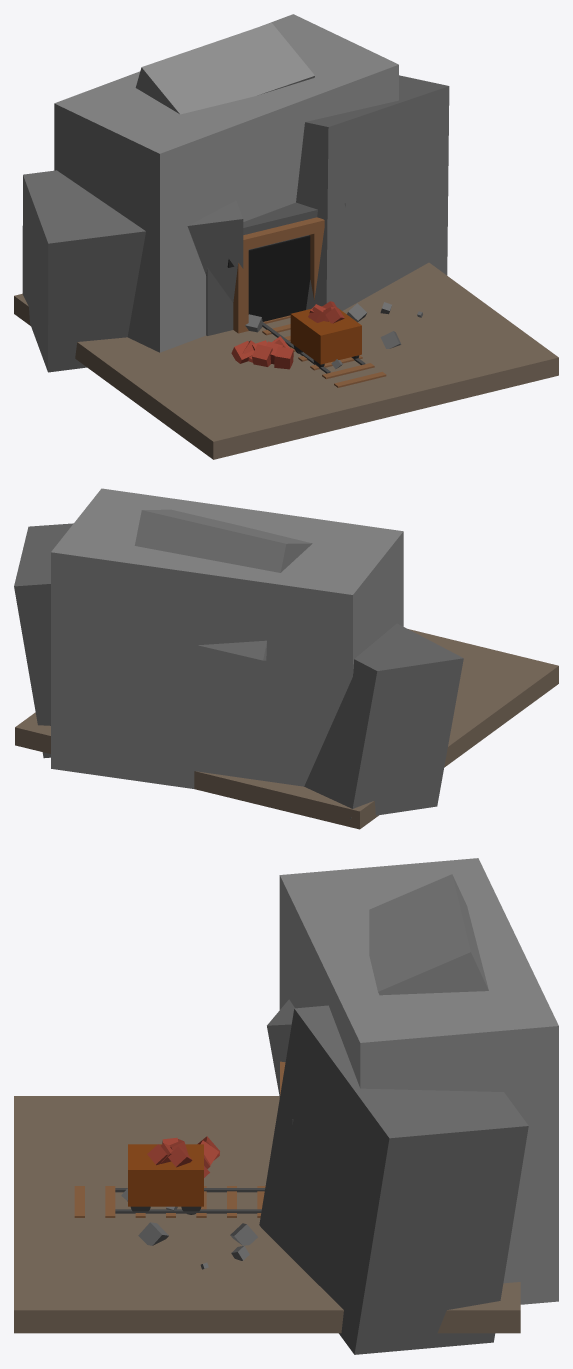
The model's file is iron_mine.glb.
3 views of the same model, one above another, from view 1: azimuth 30°, elevation 25°; view 2: azimuth 150°, elevation 25°; view 3: azimuth 270°, elevation 25° (orthographic). The views are drawn at different scales.
Visible parts, largest first — view 1: Mountain_Main, Ground, Mountain_Right, Mountain_Left, Mountain_Peak, ShaftOpening, CartBody, EntranceFrame, Timber_Top, Timber_Left, Timber_Right; view 2: Mountain_Main, Mountain_Left, Ground, Mountain_Peak, Mountain_Right; view 3: Mountain_Right, Ground, Mountain_Main, Mountain_Peak, CartBody, Mountain_Left, Rail_R.
Boxes of the visible parts, x1=… form: Mountain_Main: x1=54, y1=14, x2=398, y2=352; Ground: x1=14, y1=262, x2=558, y2=459; Mountain_Right: x1=296, y1=75, x2=449, y2=310; Mountain_Left: x1=22, y1=170, x2=243, y2=372; Mountain_Peak: x1=135, y1=22, x2=314, y2=114; ShaftOpening: x1=248, y1=235, x2=310, y2=321; CartBody: x1=290, y1=306, x2=361, y2=364; EntranceFrame: x1=206, y1=202, x2=345, y2=335; Timber_Top: x1=243, y1=217, x2=324, y2=249; Timber_Left: x1=233, y1=240, x2=248, y2=333; Timber_Right: x1=309, y1=222, x2=324, y2=299; Mountain_Main: x1=51, y1=488, x2=403, y2=788; Mountain_Left: x1=304, y1=623, x2=463, y2=819; Ground: x1=15, y1=629, x2=558, y2=829; Mountain_Peak: x1=134, y1=509, x2=312, y2=660; Mountain_Right: x1=14, y1=523, x2=73, y2=758; Mountain_Right: x1=259, y1=1005, x2=528, y2=1354; Ground: x1=14, y1=1096, x2=520, y2=1333; Mountain_Main: x1=279, y1=858, x2=558, y2=1304; Mountain_Peak: x1=369, y1=874, x2=488, y2=995; CartBody: x1=128, y1=1144, x2=203, y2=1206; Mountain_Left: x1=267, y1=999, x2=294, y2=1097; Rail_R: x1=115, y1=1209, x2=261, y2=1213.
Size of the model in its own units: 12.12 by 7.3 by 10.75.
